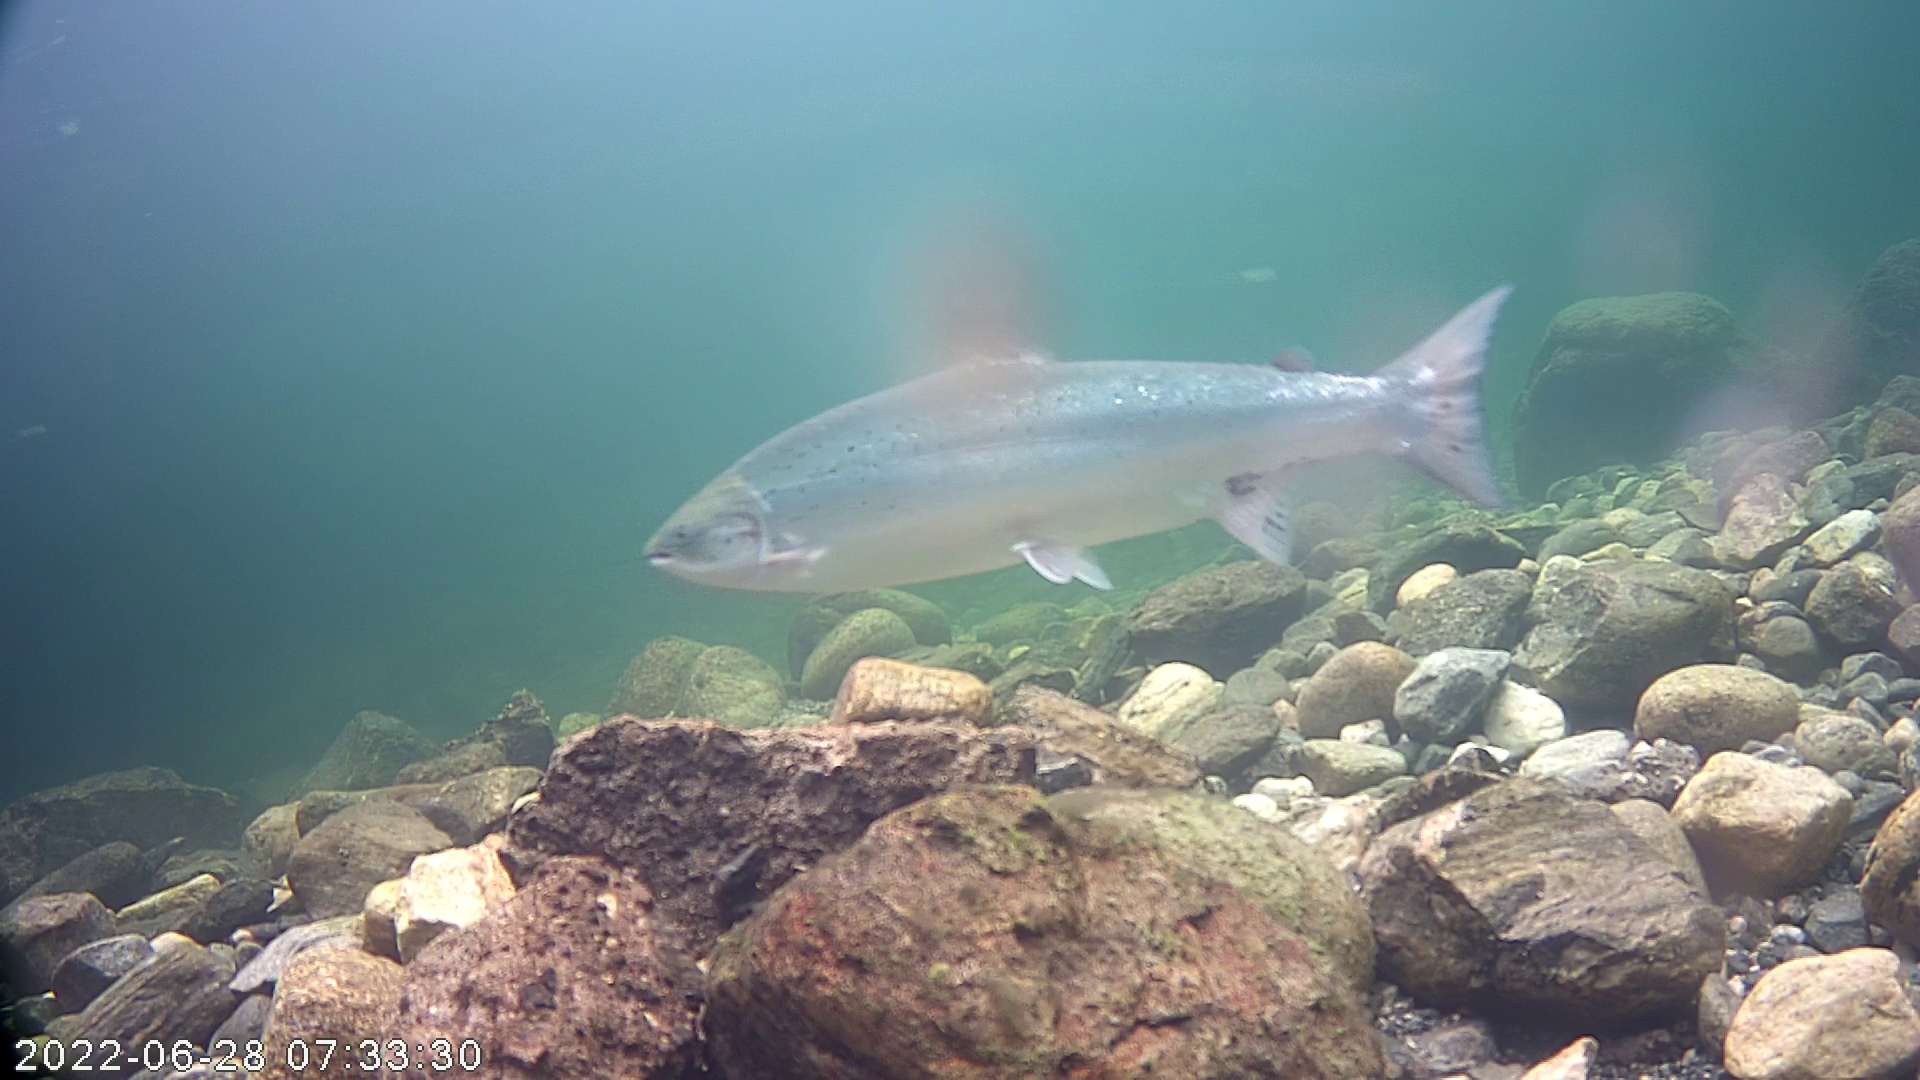salmon: (634, 218, 1542, 636)
